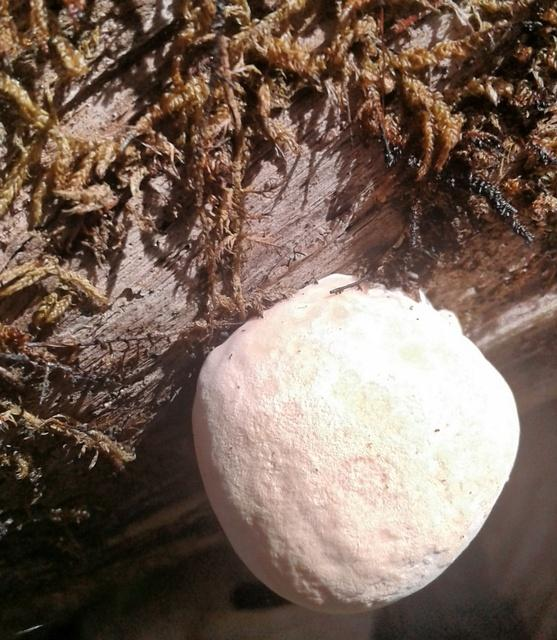poisonous_mushroom: (189, 270, 522, 616)
